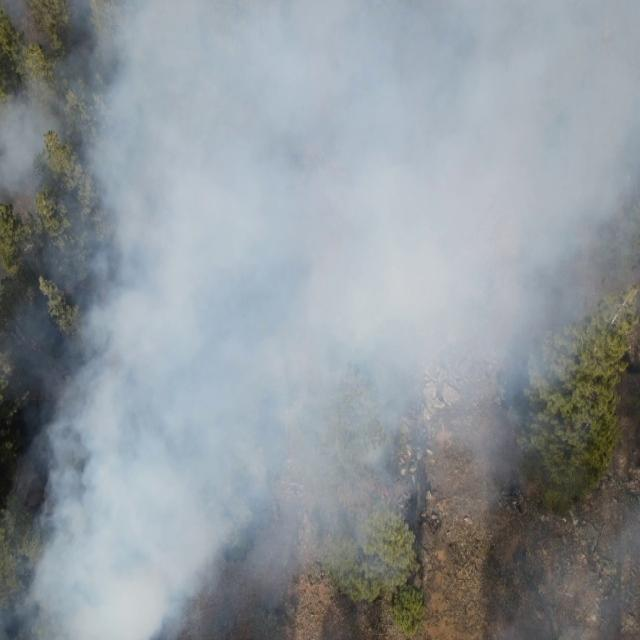smoke: (57, 0, 550, 498), (2, 501, 429, 640), (553, 0, 640, 345), (512, 500, 640, 640), (0, 0, 59, 249), (1, 301, 56, 501)
